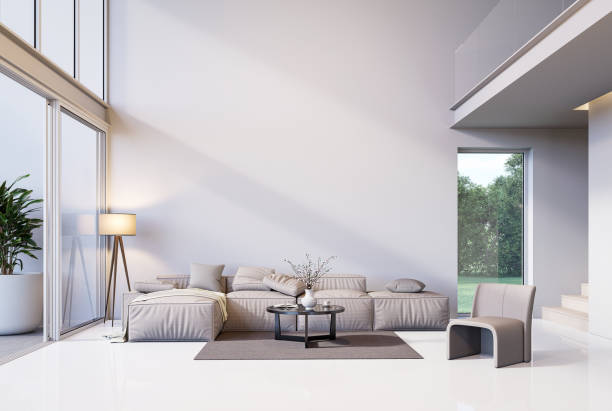chair: (445, 280, 536, 370)
floor lamp: (96, 209, 137, 326)
flower vase: (286, 254, 334, 309)
large plant: (0, 173, 44, 338)
sofa: (119, 262, 451, 345)
table: (265, 299, 344, 347)
